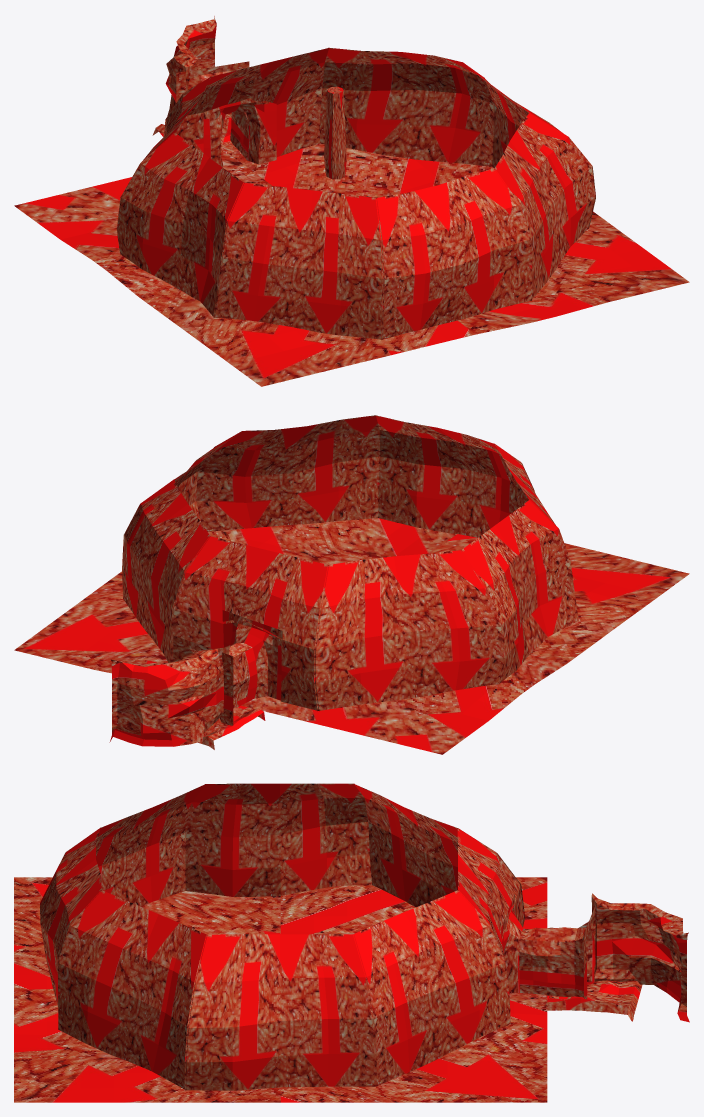
Rendered from WORLD.fbx.
3 renders of one model, top to bottom at view 1: azimuth 30°, elevation 25°; view 2: azimuth 150°, elevation 25°; view 3: azimuth 270°, elevation 25°, orthographic. The views are drawn at different scales.
Visible parts, largest first — view 1: pCube4, pCube1, Cube, Curve, pCube5; view 2: pCube4, pCube1, Curve, Cube, Flat; view 3: pCube4, pCube1, Curve, Cube, Flat.
Boxes of the visible parts, left/top/right/bottom form: pCube4: left=116, top=47, right=595, bottom=339; pCube1: left=14, top=143, right=689, bottom=386; Cube: left=176, top=61, right=276, bottom=166; Curve: left=165, top=16, right=216, bottom=115; pCube5: left=324, top=86, right=346, bottom=179; pCube4: left=122, top=415, right=578, bottom=710; pCube1: left=14, top=518, right=689, bottom=754; Curve: left=109, top=645, right=230, bottom=746; Cube: left=173, top=610, right=282, bottom=725; Flat: left=198, top=707, right=265, bottom=749; pCube4: left=40, top=783, right=524, bottom=1090; pCube1: left=14, top=877, right=547, bottom=1102; Curve: left=591, top=893, right=689, bottom=1022; Cube: left=501, top=894, right=595, bottom=1000; Flat: left=545, top=980, right=642, bottom=1021.
Size of the model in its own units: 12718 by 4862 by 16122.
Materials: 1 (1 with a texture image).
